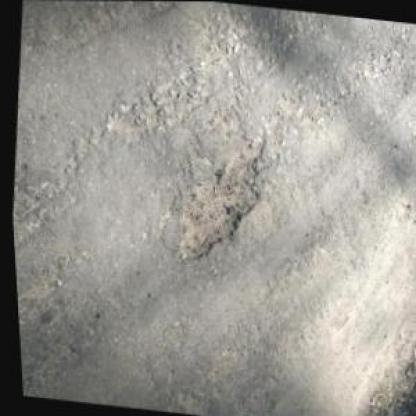pothole: (166, 129, 272, 272)
